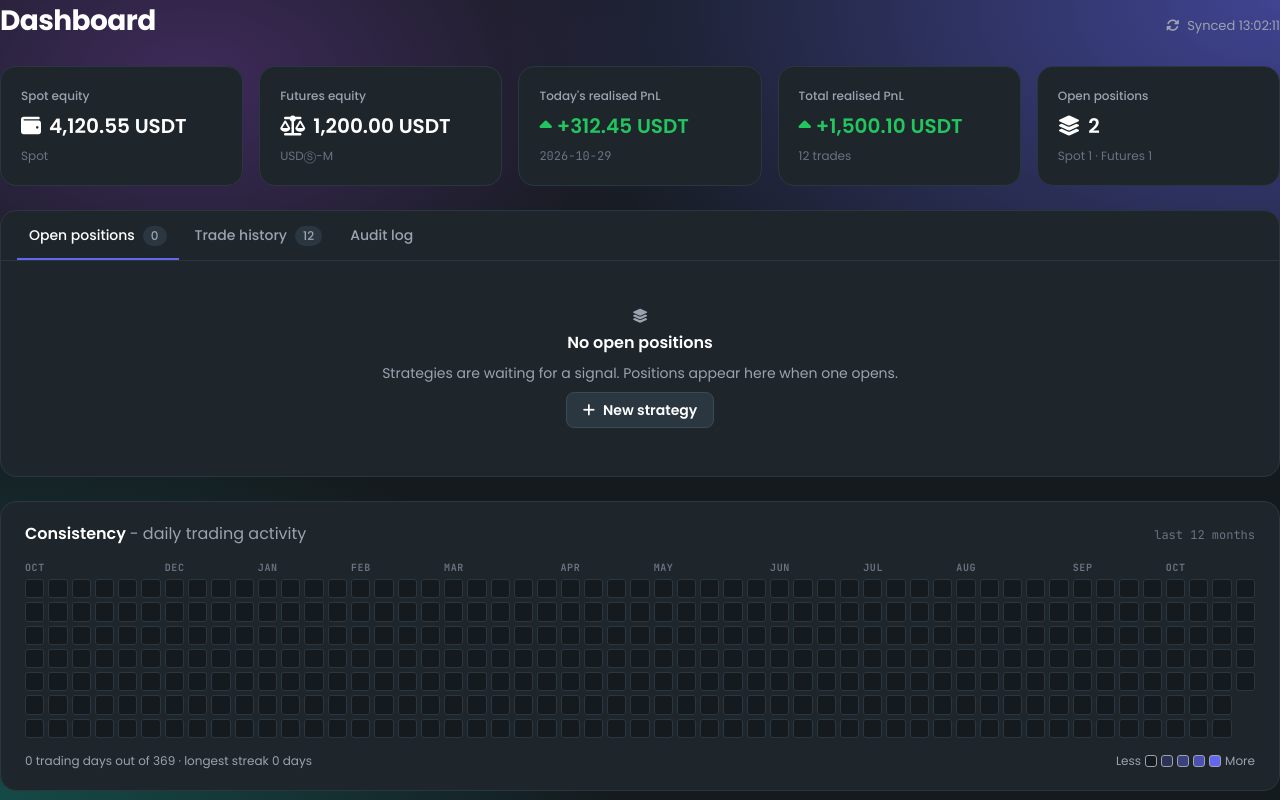
Test: Dashboard page › opens a trade drawer from the history tab and closes it on Escape
The width and height of the screenshot is (1280, 800).
Click the tab "Trade history 12" at x=258, y=236, box left=182, top=211, right=334, bottom=260
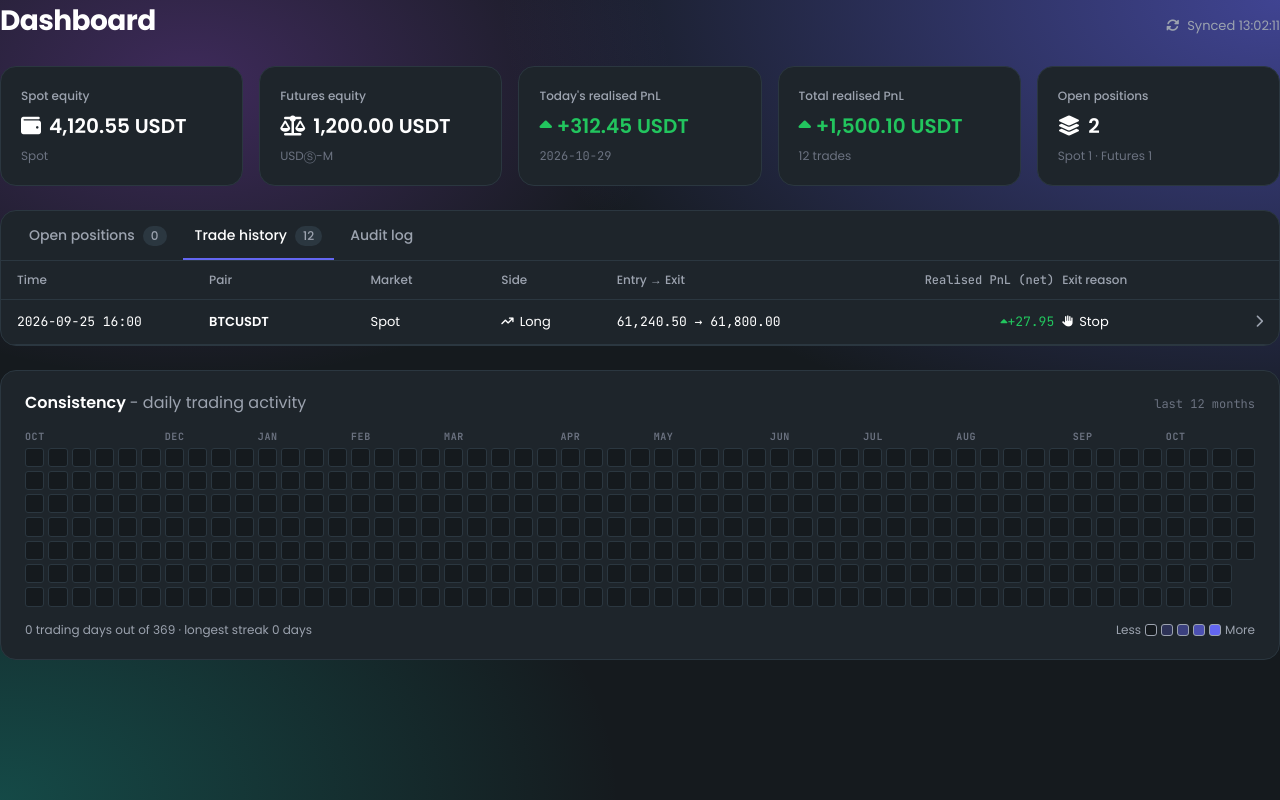
Click the button "BTCUSDT" at x=640, y=322, box left=1, top=300, right=1279, bottom=344
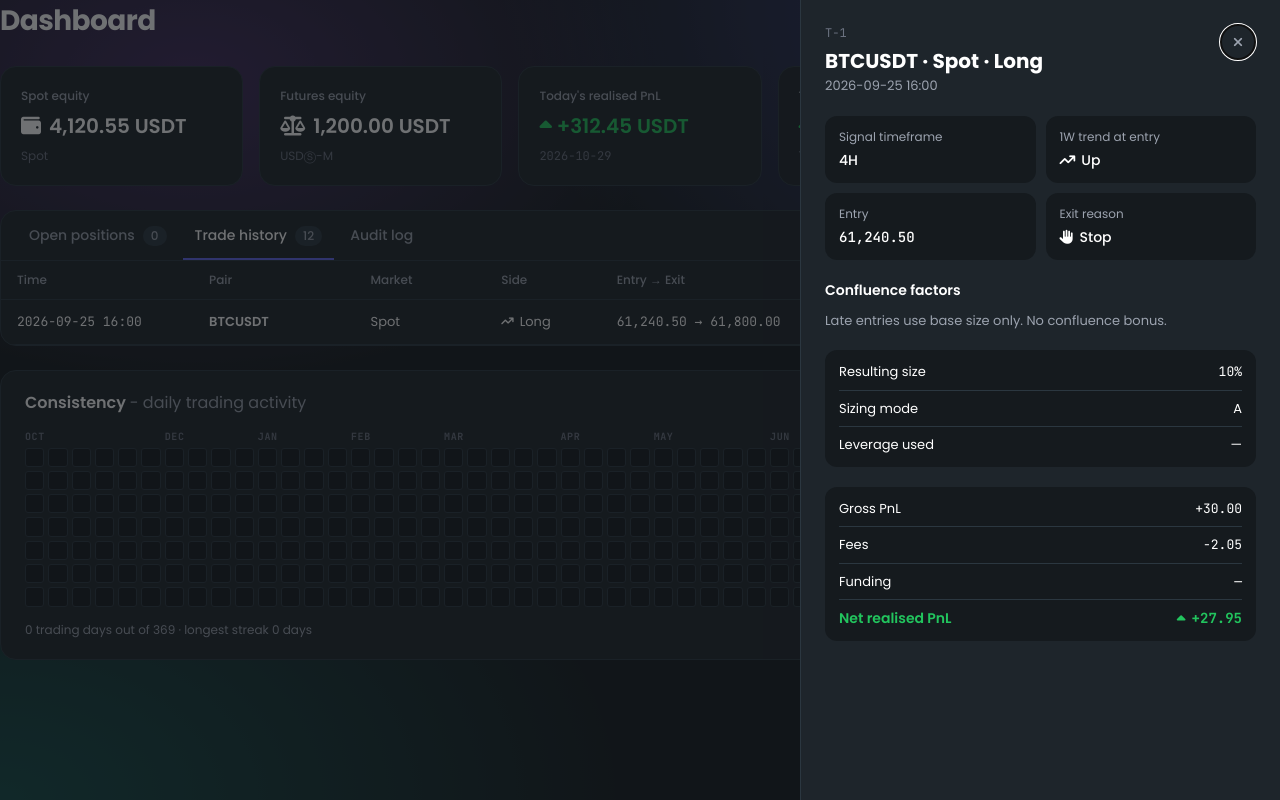
Expected: the dialog is shown, left=800, top=0, right=1279, bottom=799
Press Escape
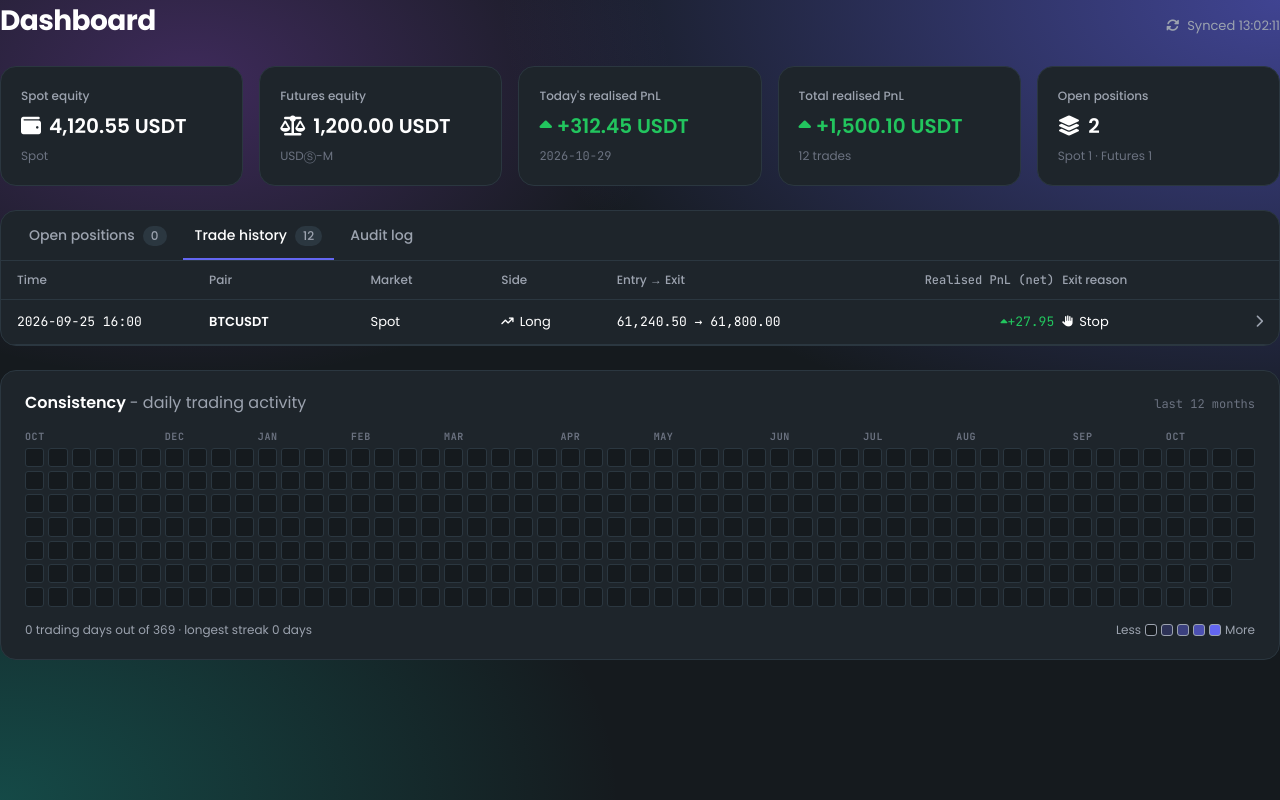
Expected: the dialog is gone
